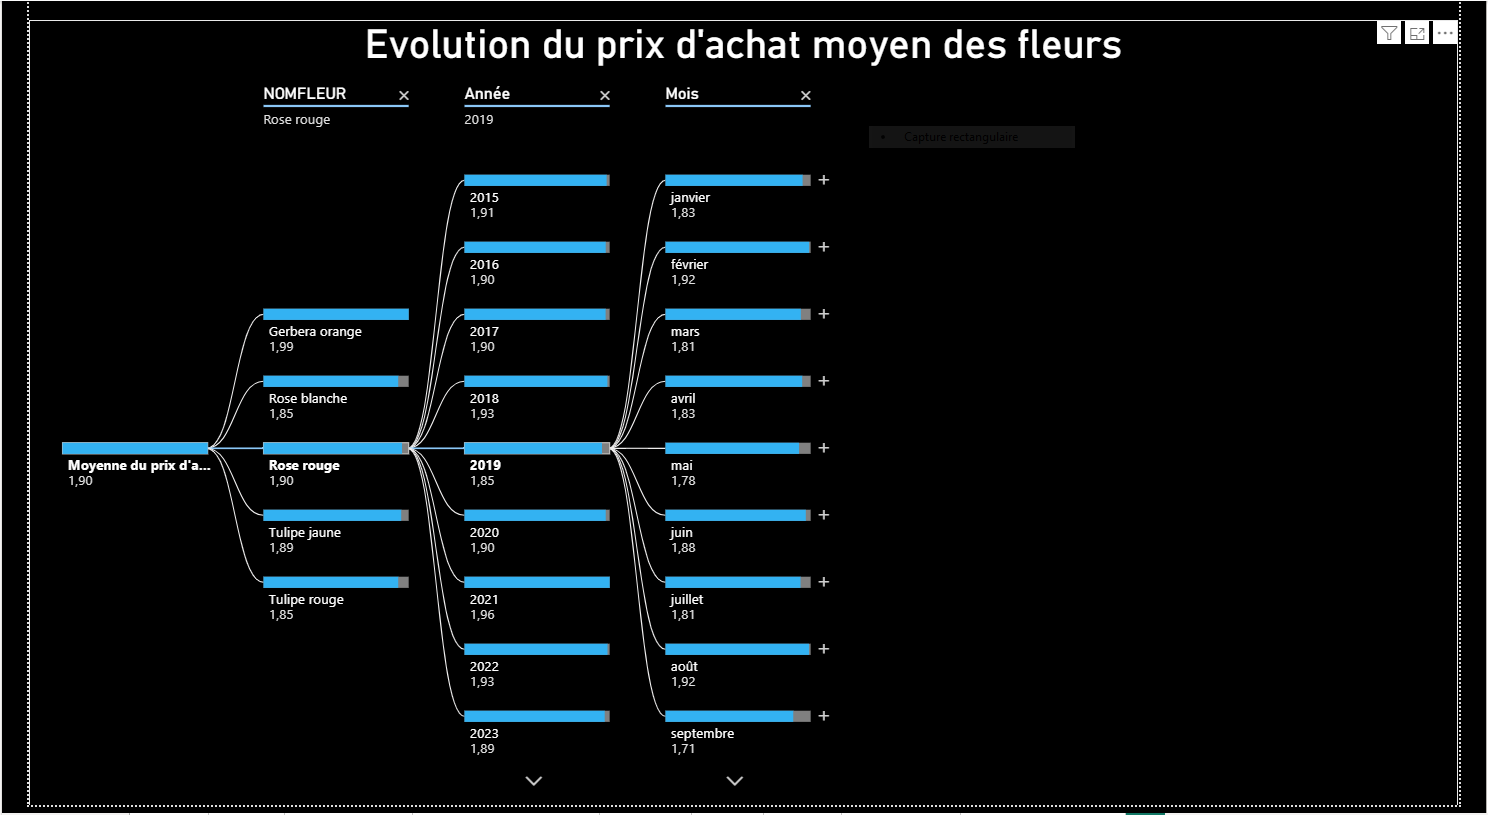

The dashboard page shown, as its layout file describes it:
{"tool":"powerbi","page":{"name":"Achats","canvas":[1280,720],"ordinal":6},"visuals":[{"type":"decompositionTreeVisual","title":"Evolution du prix d''achat moyen des fleurs","fields":{"ExplainBy":["SAE_ACHATFLEUR.NOMFLEUR","SAE_ACHATFLEUR.DATEACHAT.Variation.Hiérarchie de dates.Année","SAE_ACHATFLEUR.DATEACHAT.Variation.Hiérarchie de dates.Mois","SAE_ACHATFLEUR.DATEACHAT.Variation.Hiérarchie de dates.Trimestre","SAE_ACHATFLEUR.DATEACHAT.Variation.Hiérarchie de dates.Jour"],"Analyze":["Avg(SAE_ACHATFLEUR.PRIXACHATUNITAIRE)"]},"box":[0,16.7,1279.5,704.1],"z":0}]}

Visuals, with their boxes in screenshot pixels (x1, y1, x2, y2), scaled from the page's 1280x720 canvas onto the 1488x815 screenshot:
"Evolution du prix d''achat moyen des fleurs" decompositionTreeVisual: [left=0, top=19, right=1487, bottom=814]
